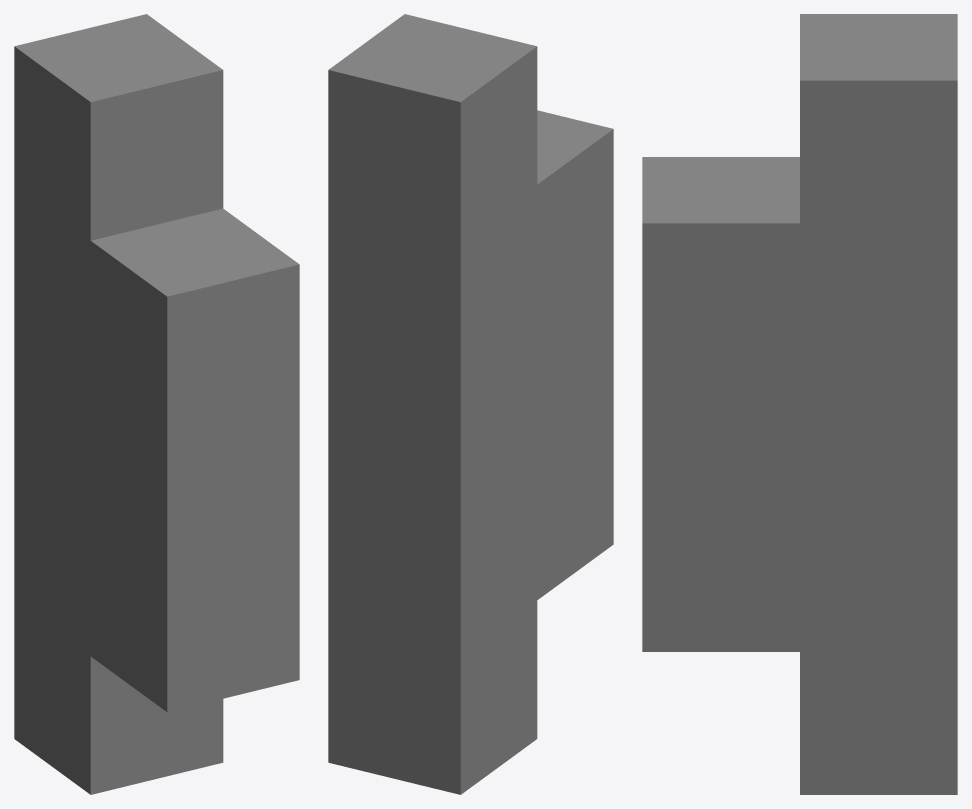
File: BombPort3.obj
3 renders of one model, left to right at view 1: azimuth 30°, elevation 25°; view 2: azimuth 150°, elevation 25°; view 3: azimuth 270°, elevation 25°, orthographic. The views are drawn at different scales.
Size of the model in its own units: 0.1 by 0.5 by 0.2.
Materials: 1 (1 with a texture image).
